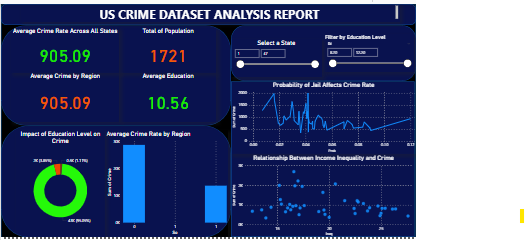

This screenshot's page, from the dashboard's own definition file:
{"tool":"powerbi","page":{"name":"22IT06-DharaniVK","canvas":[1280,720],"ordinal":0},"visuals":[{"type":"shape","box":[0,0,1280.3,720.2],"z":0},{"type":"shape","box":[0,0,1280.3,64.8],"z":1000},{"type":"shape","box":[0,374.2,709.2,346.1],"z":2000},{"type":"shape","box":[0,64.8,709.2,309.4],"z":3000},{"type":"card","title":"Average Crime Rate Across All States","fields":{"Values":["uscrime.Average Crime"]},"box":[32,71.7,333.8,139.4],"z":4000},{"type":"card","title":"Total of Population","fields":{"Values":["uscrime.Total Population"]},"box":[365.9,71.7,298.4,139.4],"z":5000},{"type":"clusteredColumnChart","title":"Average Crime Rate by Region ","fields":{"Category":["uscrime.So"],"Y":["uscrime.Crime"]},"box":[319.2,391.3,381.5,328.9],"z":6000},{"type":"donutChart","title":"Impact of Education Level on Crime","fields":{"Y":["uscrime.Ed","uscrime.Crime","uscrime.Pop"]},"box":[45.2,391.3,273.9,328.9],"z":7000},{"type":"card","title":"Average Crime by Region","fields":{"Values":["uscrime.Avg Crime by Region"]},"box":[32,211.1,333.8,150.4],"z":8000},{"type":"card","title":"Average Education","fields":{"Values":["uscrime.Avg Education"]},"box":[365.9,211.1,298.4,150.4],"z":9000},{"type":"shape","box":[709.2,64.8,571.1,172.4],"z":10000},{"type":"slicer","title":"Select a State","fields":{"Values":["uscrime.State"]},"box":[709.2,106.4,280,117.4],"z":11000},{"type":"slicer","title":"Filter by Education Level","fields":{"Values":["uscrime.Ed"]},"box":[995.4,94.2,280,117.4],"z":12000},{"type":"shape","box":[709.2,240.9,566.2,479.4],"z":13000},{"type":"lineChart","title":"Probability of Jail Affects Crime Rate","fields":{"Category":["uscrime.Prob"],"Y":["uscrime.Crime"]},"box":[709.2,238.5,571.1,223.8],"z":14000},{"type":"scatterChart","title":"Relationship Between Income Inequality and Crime","fields":{"Y":["uscrime.Crime"],"X":["uscrime.Ineq"]},"box":[709.2,462.2,571.1,258],"z":15000},{"type":"textbox","box":[63.6,0,1167.8,55],"z":16000}]}

Visuals, with their boxes on the page's 1280x720 design canvas (x1, y1, x2, y2). These are canvas units, not pixel positions in the 526x240 screenshot, which may show the page scaled, cropped or inside an application window:
shape: <bbox>0, 0, 1280, 720</bbox>
shape: <bbox>0, 0, 1280, 65</bbox>
shape: <bbox>0, 374, 709, 720</bbox>
shape: <bbox>0, 65, 709, 374</bbox>
"Average Crime Rate Across All States" card: <bbox>32, 72, 366, 211</bbox>
"Total of Population" card: <bbox>366, 72, 664, 211</bbox>
"Average Crime Rate by Region " clusteredColumnChart: <bbox>319, 391, 701, 720</bbox>
"Impact of Education Level on Crime" donutChart: <bbox>45, 391, 319, 720</bbox>
"Average Crime by Region" card: <bbox>32, 211, 366, 362</bbox>
"Average Education" card: <bbox>366, 211, 664, 362</bbox>
shape: <bbox>709, 65, 1280, 237</bbox>
"Select a State" slicer: <bbox>709, 106, 989, 224</bbox>
"Filter by Education Level" slicer: <bbox>995, 94, 1275, 212</bbox>
shape: <bbox>709, 241, 1275, 720</bbox>
"Probability of Jail Affects Crime Rate" lineChart: <bbox>709, 238, 1280, 462</bbox>
"Relationship Between Income Inequality and Crime" scatterChart: <bbox>709, 462, 1280, 720</bbox>
textbox: <bbox>64, 0, 1231, 55</bbox>
